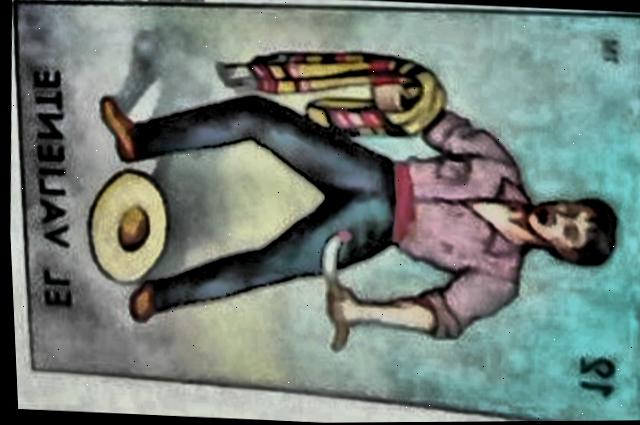El Valiente: (14, 0, 640, 422)
